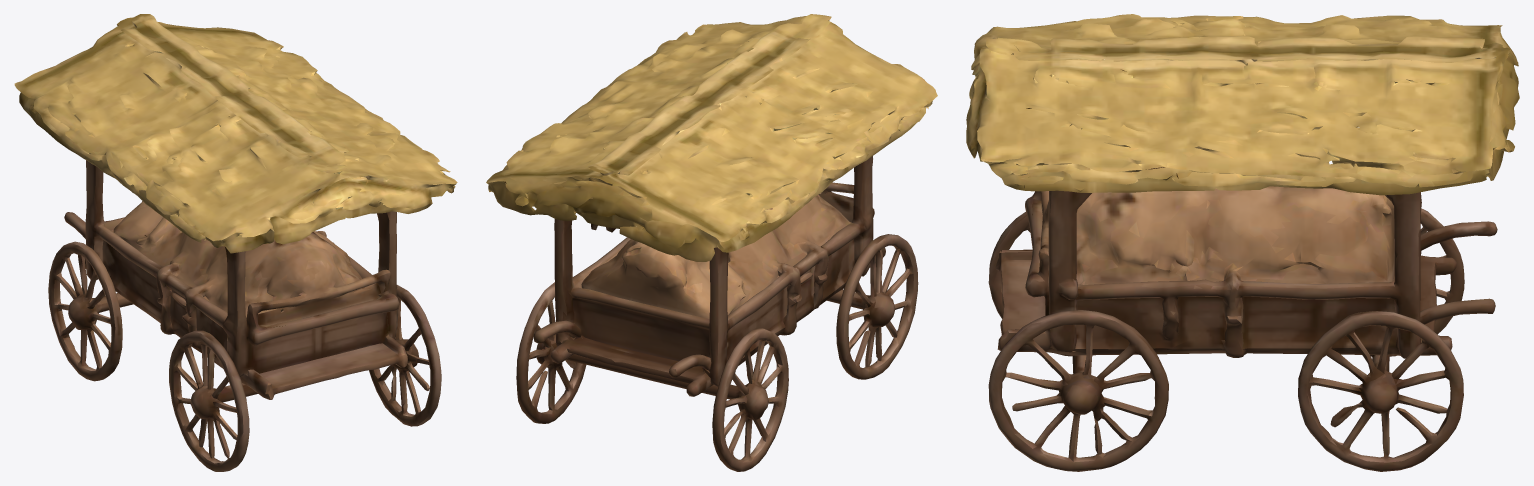
The model's file is ThatchWagon.glb.
3 views of the same model, side by side, from view 1: azimuth 30°, elevation 25°; view 2: azimuth 150°, elevation 25°; view 3: azimuth 270°, elevation 25° (orthographic). The views are drawn at different scales.
Visible parts, largest first — view 1: ThatchWagon; view 2: ThatchWagon; view 3: ThatchWagon.
Boxes of the visible parts, x1,y1,x2,y2 form: ThatchWagon: (14,14,457,471); ThatchWagon: (486,14,937,471); ThatchWagon: (966,14,1519,471).
Size of the model in its own units: 2.04 by 2.29 by 3.12.
1 material, 1 textured.
